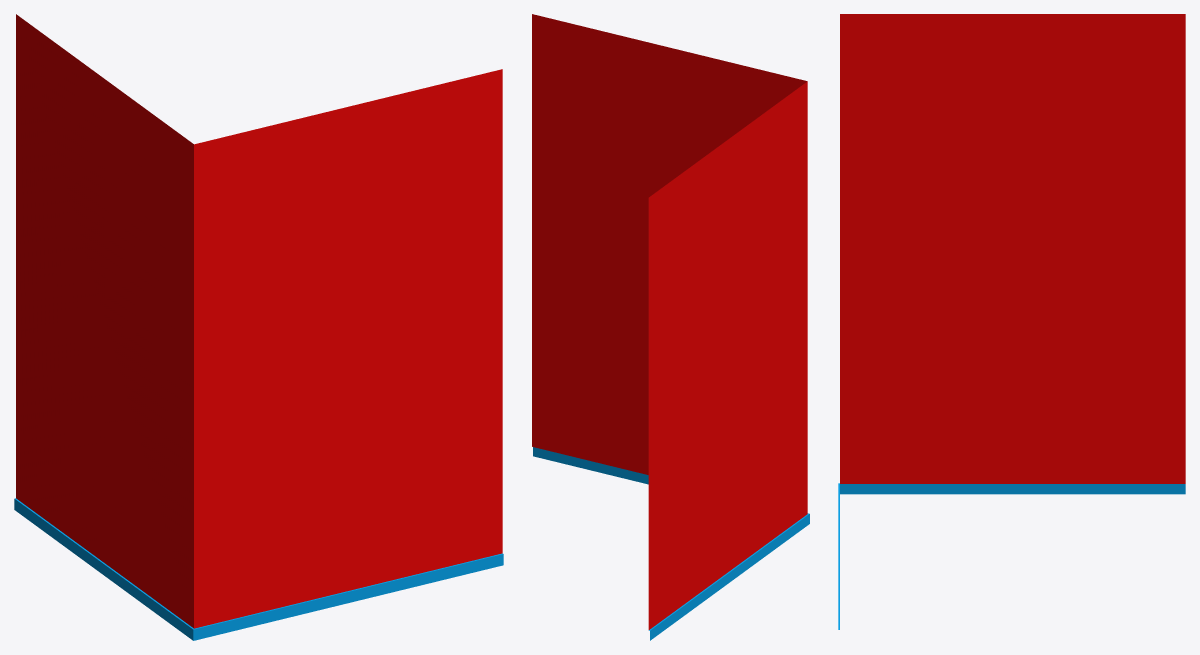
Rendered from SM_Corner_Out.FBX.
3 renders of one model, left to right at view 1: azimuth 30°, elevation 25°; view 2: azimuth 150°, elevation 25°; view 3: azimuth 270°, elevation 25°, orthographic. The views are drawn at different scales.
Visible parts, largest first — view 1: SM_Corner_Out; view 2: SM_Corner_Out; view 3: SM_Corner_Out.
Boxes of the visible parts, bbox=[...] form: SM_Corner_Out: bbox=[14, 14, 503, 640]; SM_Corner_Out: bbox=[532, 14, 809, 640]; SM_Corner_Out: bbox=[838, 14, 1185, 629].
Size of the model in its own units: 2.01 by 3.07 by 2.01.
